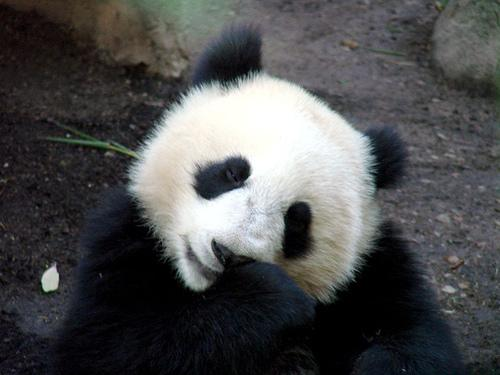panda: (51, 27, 463, 374)
